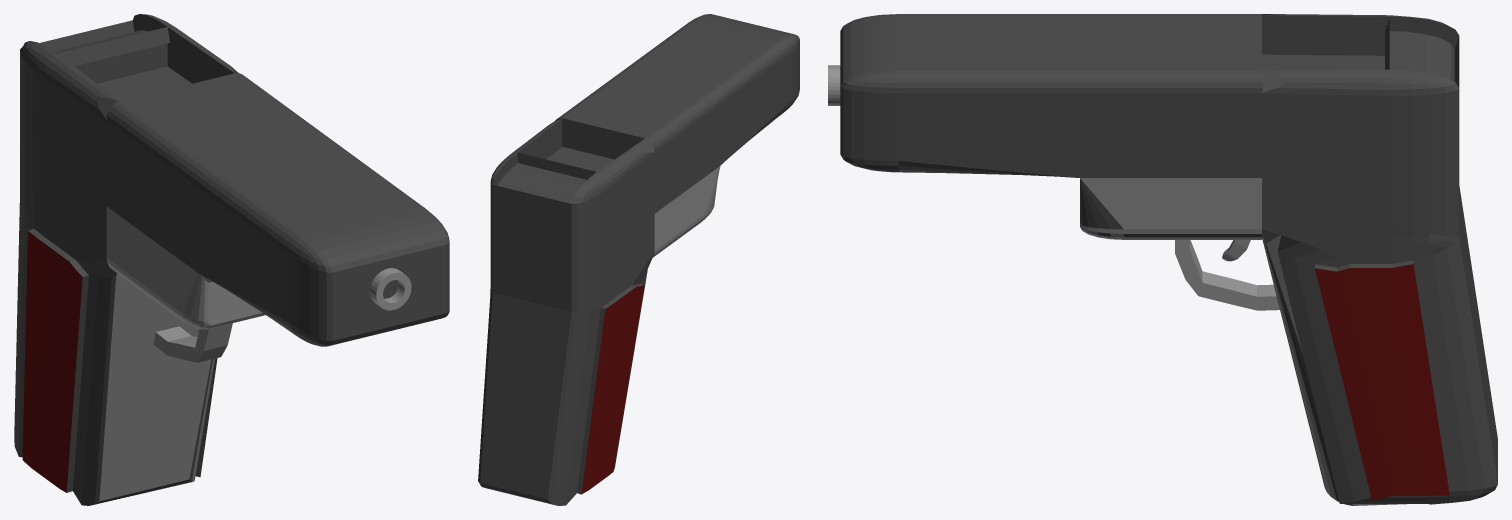
The model's file is gun.glb.
3 views of the same model, side by side, from view 1: azimuth 30°, elevation 25°; view 2: azimuth 150°, elevation 25°; view 3: azimuth 270°, elevation 25° (orthographic). The views are drawn at different scales.
Parts seen in each view (by area): view 1: Cube, Cube.001, Cylinder; view 2: Cube; view 3: Cube, Cube.001.
Part boxes in pixels (x1,y1,x2,y2): Cube: [14, 14, 449, 505]; Cube.001: [154, 323, 232, 362]; Cylinder: [370, 268, 411, 310]; Cube: [478, 14, 799, 505]; Cube: [840, 14, 1497, 505]; Cube.001: [1175, 240, 1279, 310].
Bounding box in the file's own units: 0.574 × 1.55 × 2.16.
